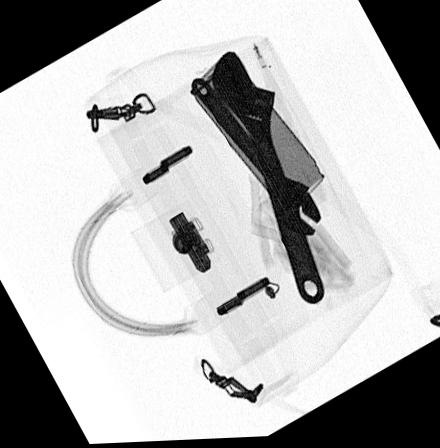Wrench: (208, 53, 325, 308), (192, 77, 322, 240)
